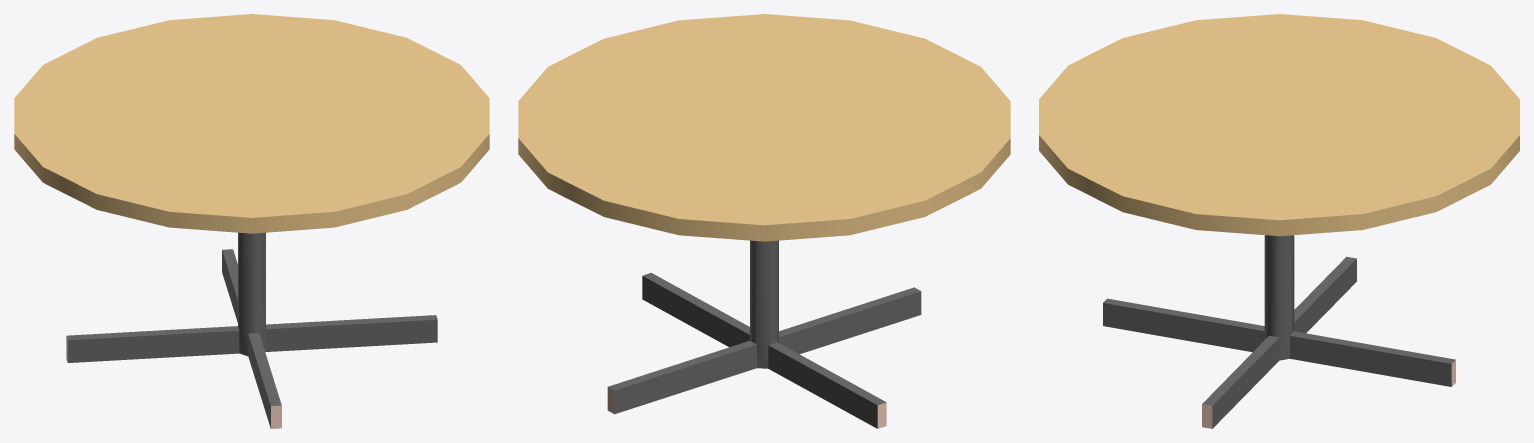
Rendered from Kitchen_Table.FBX.
3 renders of one model, left to right at view 1: azimuth 30°, elevation 25°; view 2: azimuth 150°, elevation 25°; view 3: azimuth 270°, elevation 25°, orthographic. The views are drawn at different scales.
Parts seen in each view (by area): view 1: Kitchen_Table_001; view 2: Kitchen_Table_001; view 3: Kitchen_Table_001.
Part boxes in pixels (<box>): Kitchen_Table_001: <box>14,14,489,428</box>; Kitchen_Table_001: <box>518,14,1010,428</box>; Kitchen_Table_001: <box>1039,14,1519,428</box>.
Bounding box in the file's own units: 1.39 × 0.7473 × 1.37.
